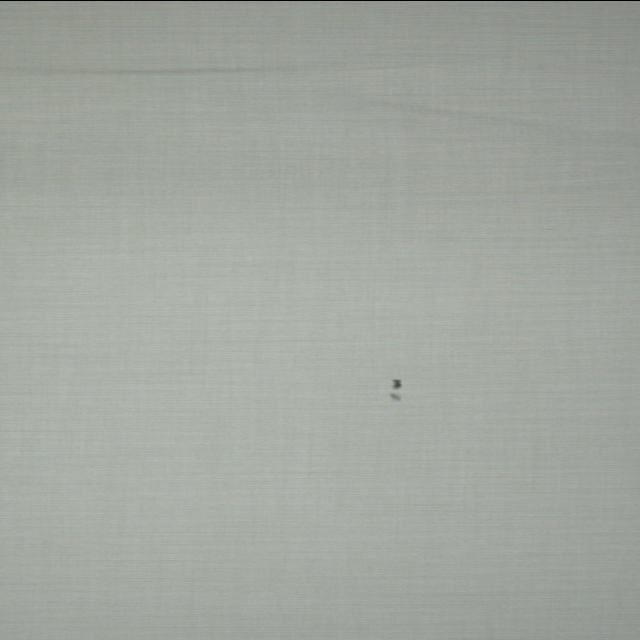dirty: (388, 378, 406, 402)
